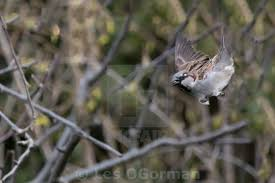hsparrow: (161, 30, 241, 125)
